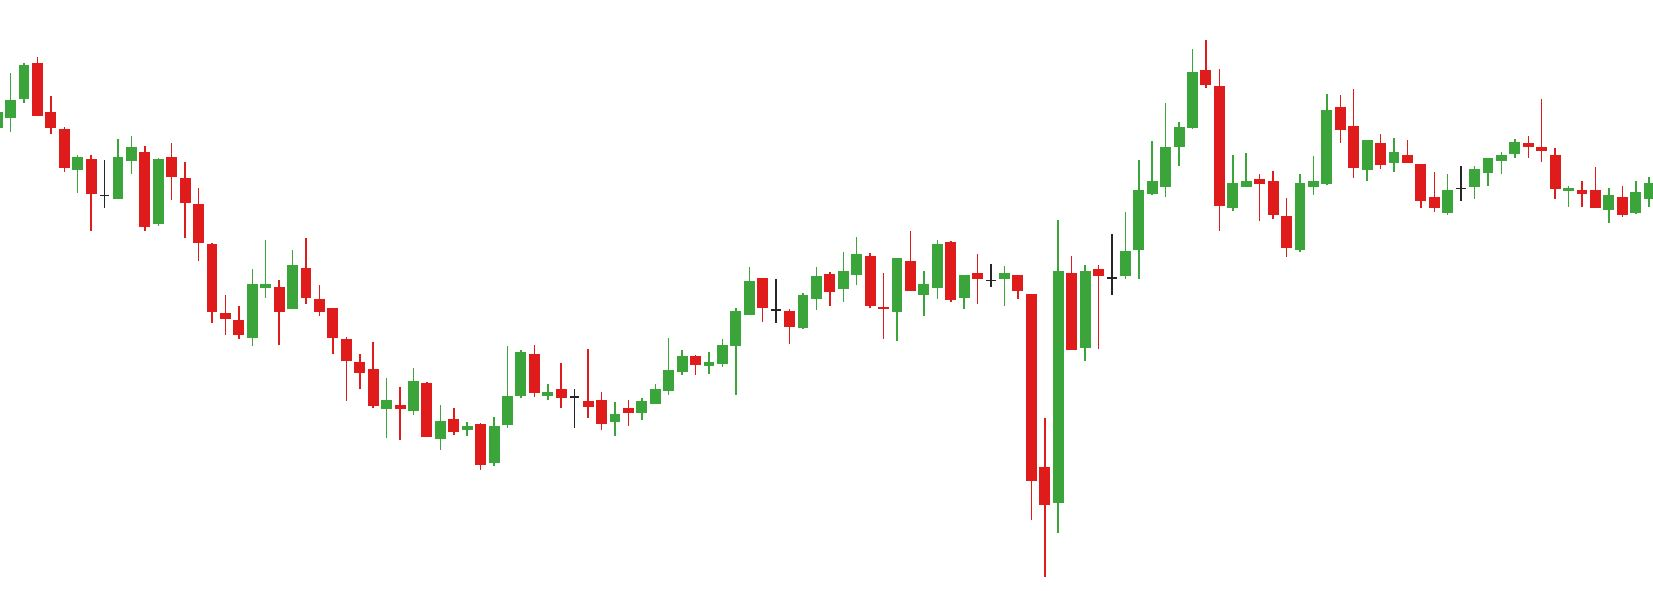buy: (1216, 157, 1307, 258)
